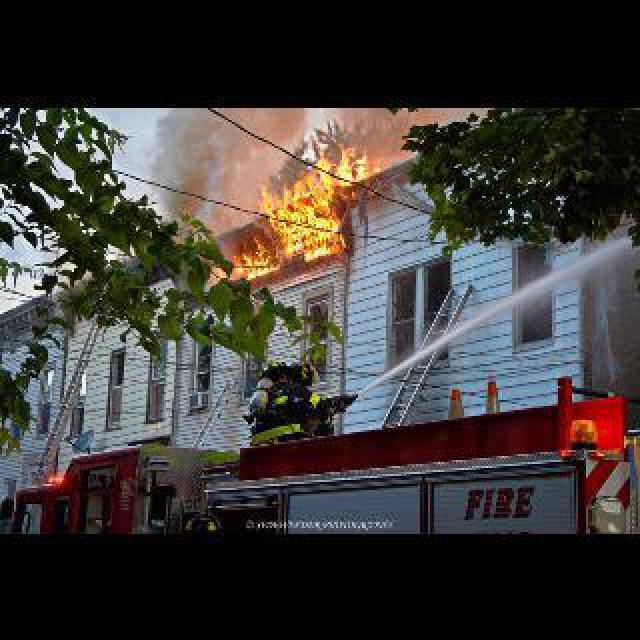smoke: (146, 110, 264, 228)
zfire: (228, 142, 386, 274)
